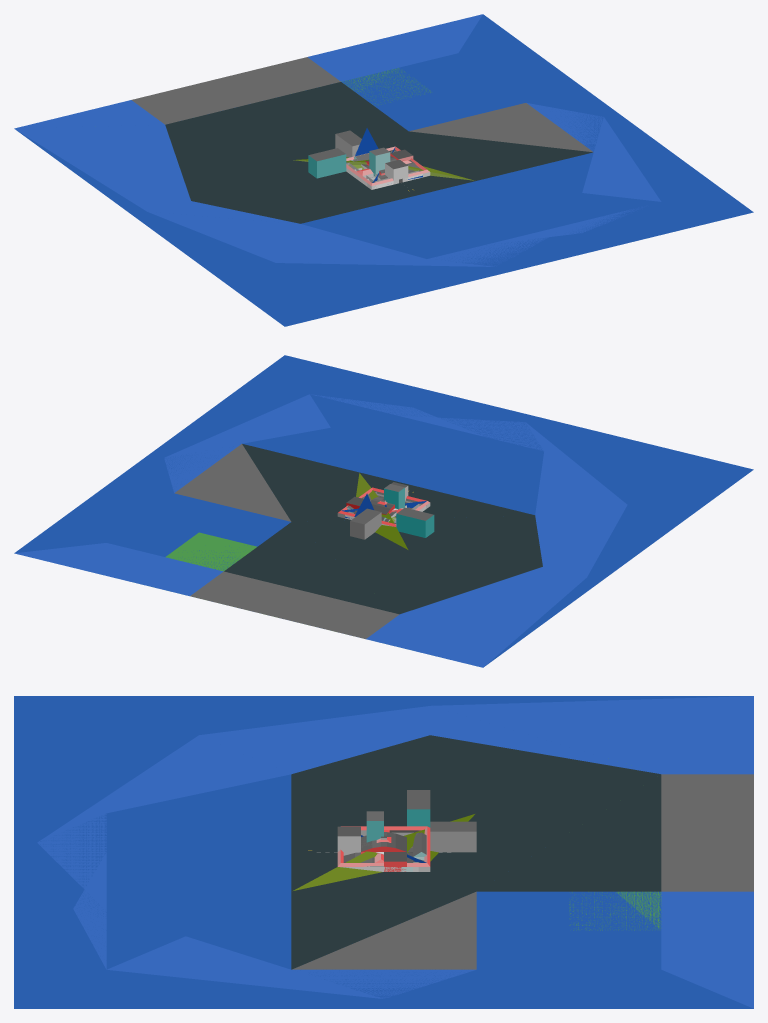
3 views of the same model, one above another, from view 1: azimuth 30°, elevation 25°; view 2: azimuth 150°, elevation 25°; view 3: azimuth 270°, elevation 25° (orthographic). The views are drawn at different scales.
Visible parts, largest first — view 1: cu_000_lod0, cu_096_lod0, cu_060_lod0, cu_058_lod0, cu_059_lod0, cu_057_lod0, cu_062_lod0_s1v0, cu_002_lod0, cu_001_lod0, cu_097_lod0; view 2: cu_000_lod0, cu_096_lod0, cu_060_lod0, cu_058_lod0, cu_057_lod0, cu_059_lod0, cu_062_lod0_s1v0, cu_002_lod0, cu_001_lod0, cu_068_lod0, cu_097_lod0; view 3: cu_000_lod0, cu_096_lod0, cu_060_lod0, cu_059_lod0, cu_058_lod0, cu_057_lod0, cu_062_lod0_s1v0, cu_002_lod0, cu_001_lod0, cu_068_lod0, cu_097_lod0, cu_040_lod0_s1v0 (+1 smaller).
Boxes of the visible parts, box(x1,y1,x2,y2) form: cu_000_lod0: box(14, 14, 661, 266); cu_096_lod0: box(16, 68, 752, 326); cu_060_lod0: box(93, 14, 617, 275); cu_058_lod0: box(377, 92, 752, 211); cu_059_lod0: box(82, 67, 752, 227); cu_057_lod0: box(150, 159, 752, 276); cu_062_lod0_s1v0: box(308, 130, 413, 178); cu_002_lod0: box(409, 92, 745, 209); cu_001_lod0: box(565, 152, 749, 210); cu_097_lod0: box(346, 146, 429, 189); cu_000_lod0: box(15, 394, 627, 667); cu_096_lod0: box(286, 355, 753, 666); cu_060_lod0: box(14, 437, 684, 617); cu_058_lod0: box(149, 355, 284, 545); cu_057_lod0: box(243, 355, 685, 568); cu_059_lod0: box(188, 355, 617, 617); cu_062_lod0_s1v0: box(346, 484, 434, 539); cu_002_lod0: box(221, 359, 290, 527); cu_001_lod0: box(243, 356, 284, 450); cu_068_lod0: box(356, 473, 408, 549); cu_097_lod0: box(338, 487, 429, 526); cu_000_lod0: box(37, 696, 753, 1008); cu_096_lod0: box(14, 696, 751, 1008); cu_060_lod0: box(107, 696, 753, 1008); cu_059_lod0: box(14, 696, 661, 1008); cu_058_lod0: box(14, 891, 568, 1008); cu_057_lod0: box(15, 696, 383, 1008); cu_062_lod0_s1v0: box(366, 790, 476, 871); cu_002_lod0: box(18, 892, 567, 1008); cu_001_lod0: box(16, 950, 291, 1008); cu_068_lod0: box(293, 814, 474, 890); cu_097_lod0: box(337, 826, 430, 871); cu_040_lod0_s1v0: box(361, 832, 406, 853).
Size of what is drawn, in the model's own units: 4096 by 256 by 4096.
